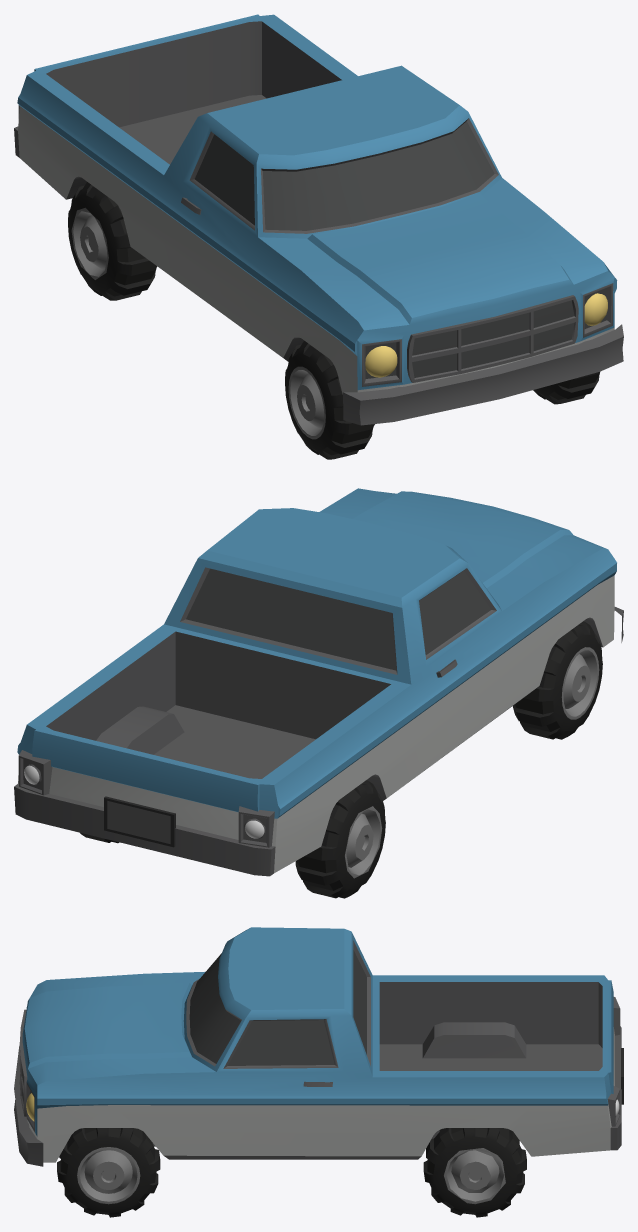
File: pickup.glb
3 renders of one model, top to bottom at view 1: azimuth 30°, elevation 25°; view 2: azimuth 150°, elevation 25°; view 3: azimuth 270°, elevation 25°, orthographic. The views are drawn at different scales.
Parts seen in each view (by area): view 1: Pickup, BackWheels, FrontWheel_R, FrontWheel_L; view 2: Pickup, BackWheels, FrontWheel_R; view 3: Pickup, BackWheels, FrontWheel_L.
Boxes of the visible parts, x1,y1,x2,y2 form: Pickup: (14,14,623,425); BackWheels: (68,182,157,300); FrontWheel_R: (285,340,374,459); FrontWheel_L: (533,372,599,404); Pickup: (14,488,623,876); BackWheels: (80,780,385,898); FrontWheel_R: (512,621,602,739); Pickup: (14,927,623,1166); BackWheels: (423,1128,526,1217); FrontWheel_L: (57,1128,160,1217).
Size of the model in its own units: 2.31 by 1.85 by 5.18.
Materials: 3 (1 with a texture image).
